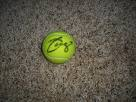tennis ball: (42, 30, 76, 64)
